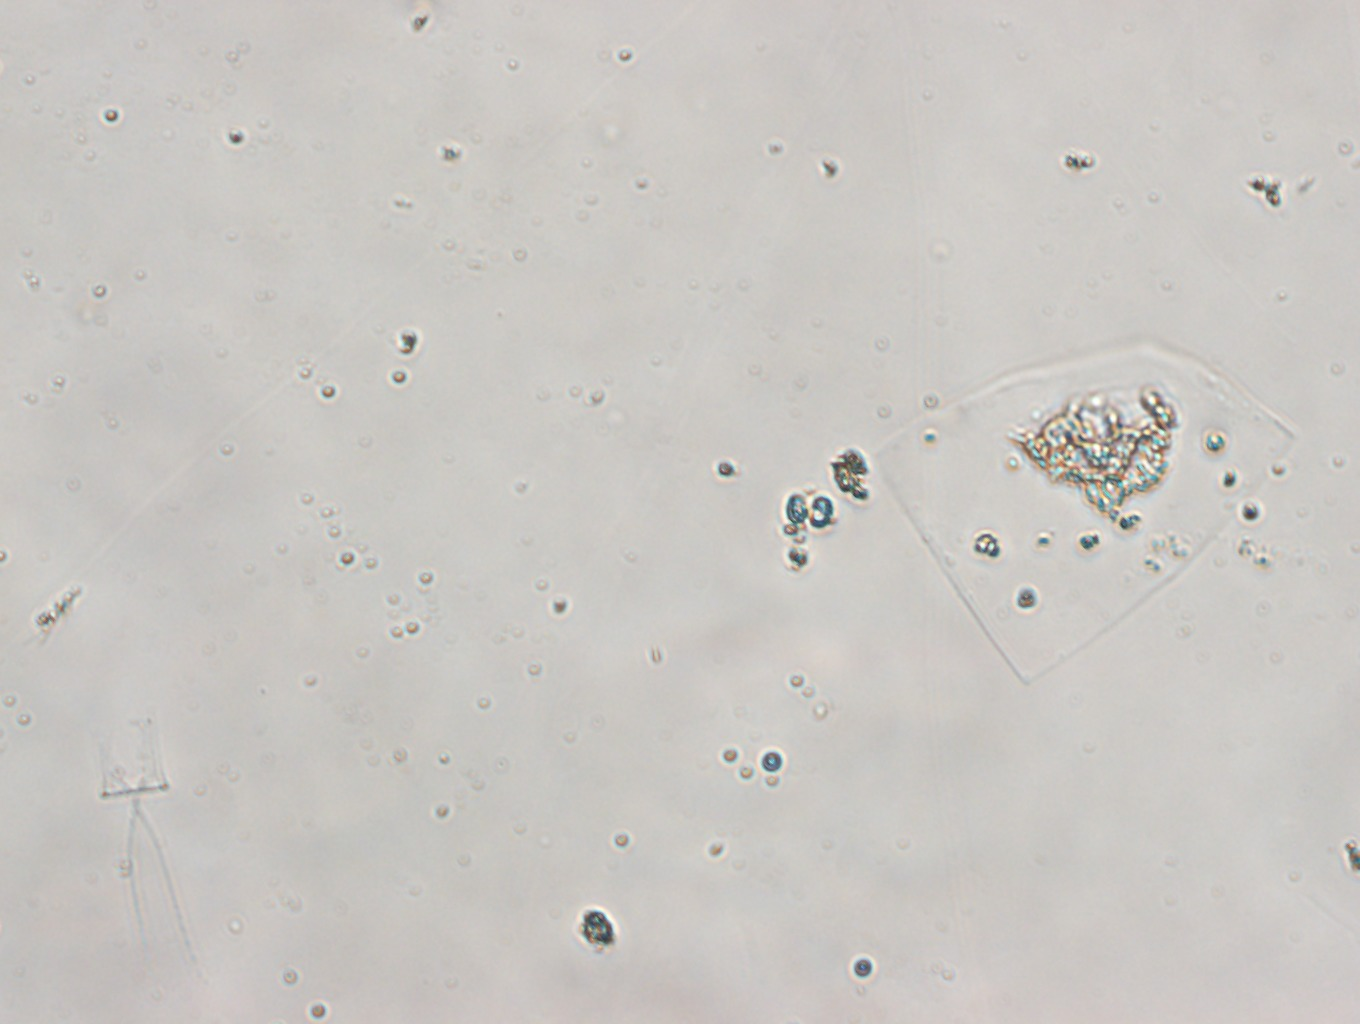helicotheca: (860, 327, 1295, 687)
